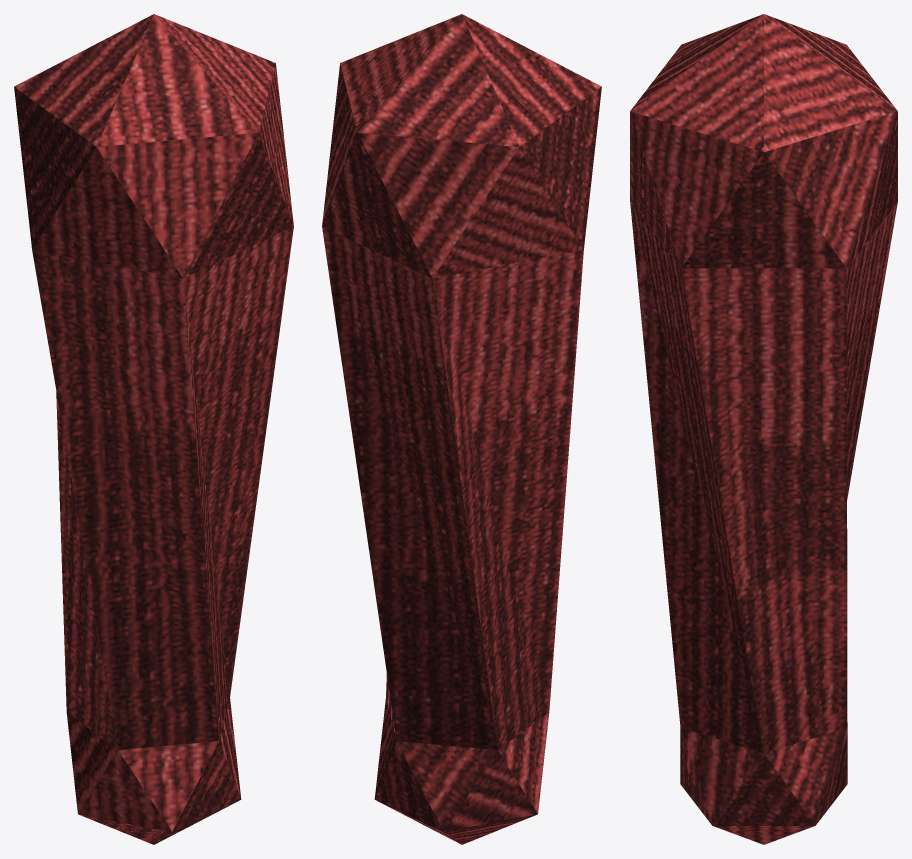
The model's file is Cloth_Pillar.obj.
3 views of the same model, side by side, from view 1: azimuth 30°, elevation 25°; view 2: azimuth 150°, elevation 25°; view 3: azimuth 270°, elevation 25° (orthographic).
Visible parts, largest first — view 1: Icosphere_Icosphere.002; view 2: Icosphere_Icosphere.002; view 3: Icosphere_Icosphere.002.
Part boxes in pixels (<box>): Icosphere_Icosphere.002: <box>14,14,293,844</box>; Icosphere_Icosphere.002: <box>322,14,601,844</box>; Icosphere_Icosphere.002: <box>630,14,897,844</box>.
Size of the model in its own units: 2.87 by 9.34 by 2.73.
Materials: 1 (1 with a texture image).
